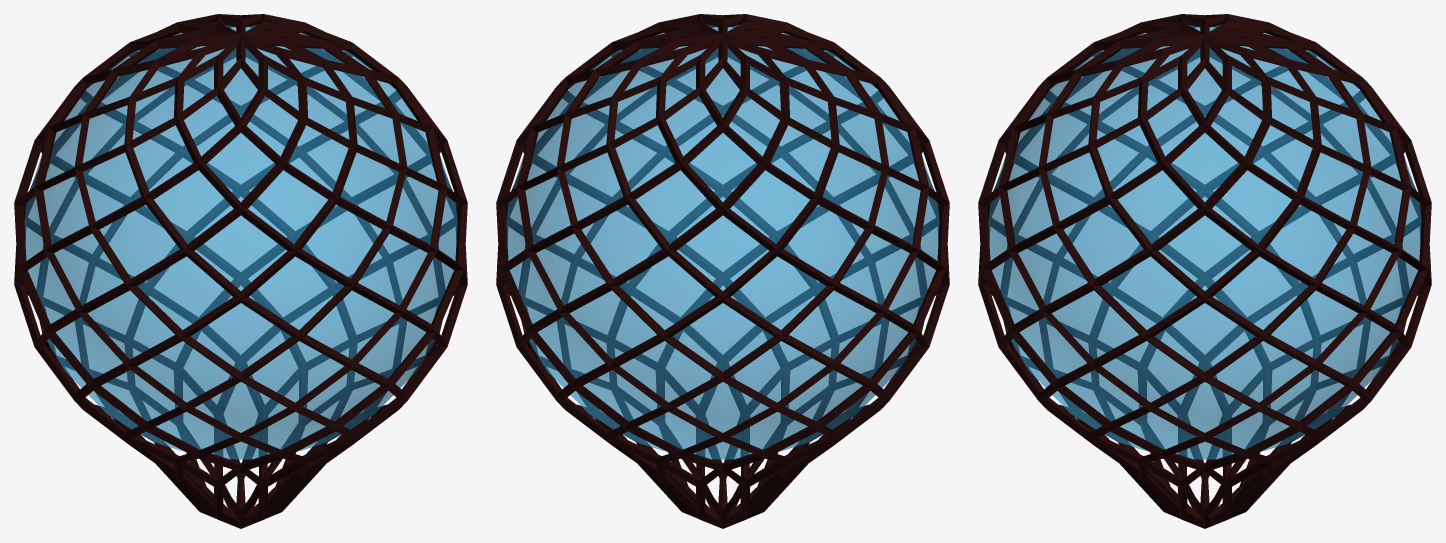
The model's file is baloon.glb.
The picture shows the model from 3 angles, left to right: view 1: azimuth 30°, elevation 25°; view 2: azimuth 150°, elevation 25°; view 3: azimuth 270°, elevation 25°; orthographic projection.
Parts seen in each view (by area): view 1: net, baloon; view 2: net, baloon; view 3: net, baloon.
Boxes of the visible parts, x1,y1,x2,y2 form: net: (14, 14, 467, 528); baloon: (24, 24, 457, 459); net: (496, 14, 949, 528); baloon: (506, 24, 939, 459); net: (978, 14, 1431, 528); baloon: (988, 24, 1421, 459).
Size of the model in its own units: 1.09 by 1.31 by 1.09.
